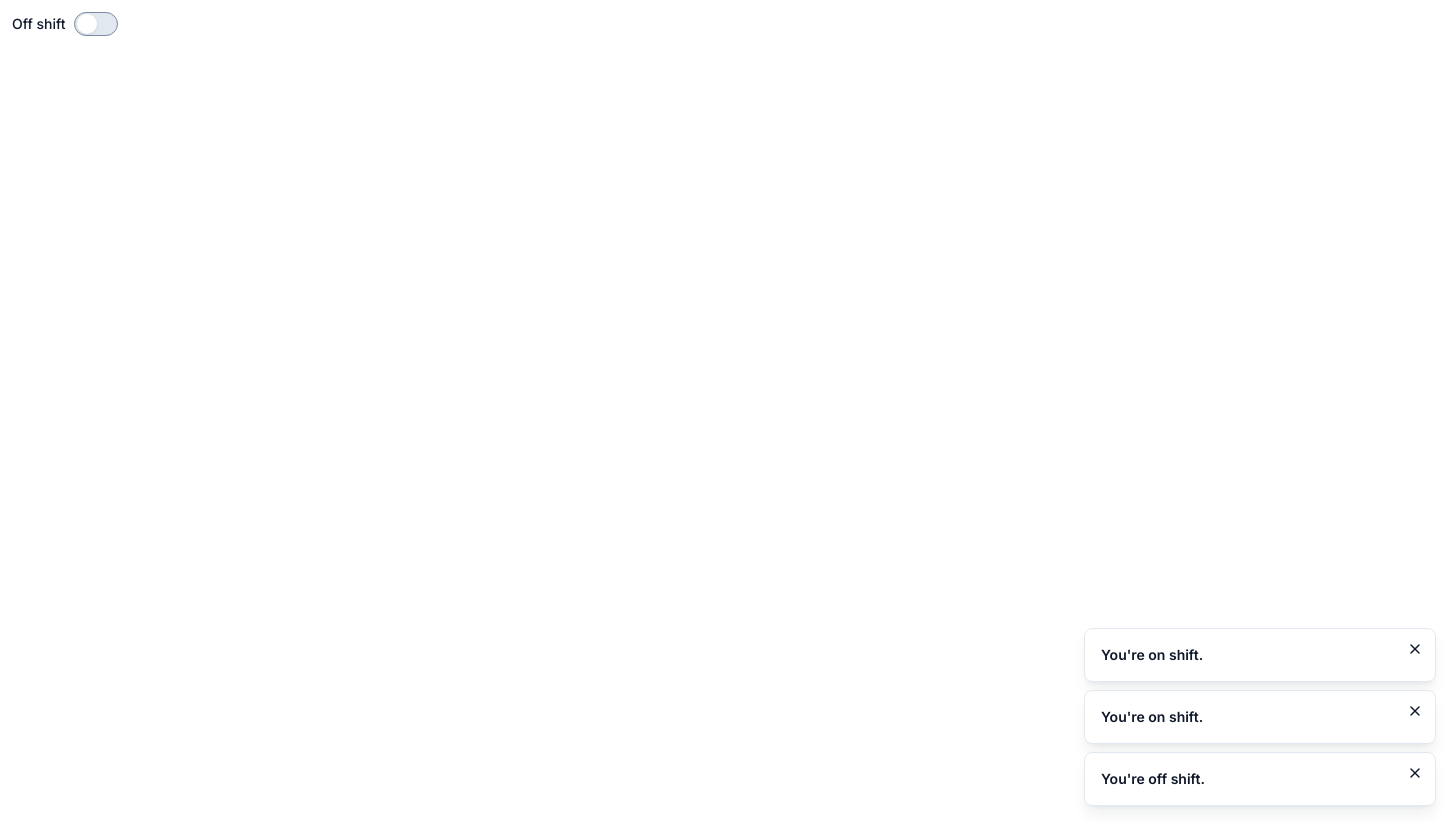
Test: shift switch (spec 04 AG-03) › AGENT_INACTIVE reads the profile again: banner shown, switch disabled
Click the switch named "Off shift" at (96, 24), box [74, 12, 118, 36]
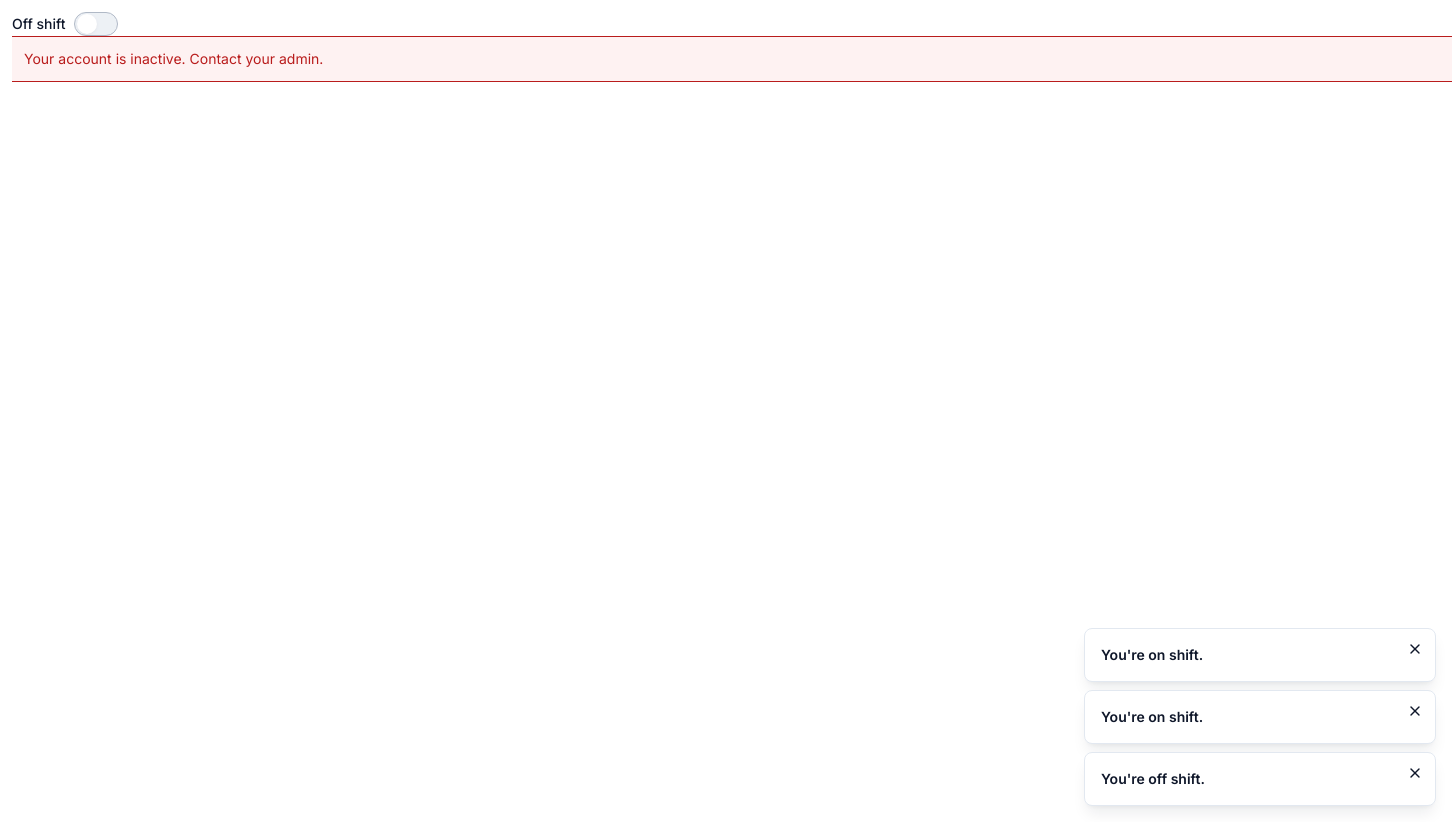
Check: the text "Your account is inactive. Contact your admin." is shown, box [24, 50, 323, 67]
Check: the switch is disabled, box [74, 12, 118, 36]
